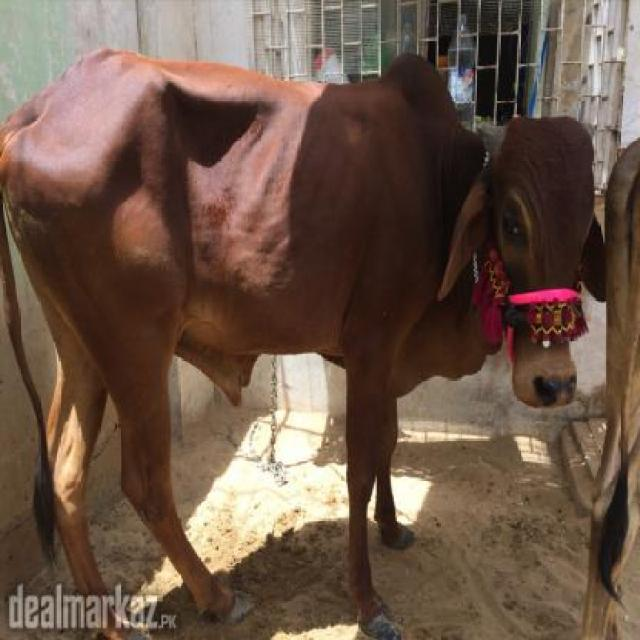Cow: (0, 44, 617, 638)
